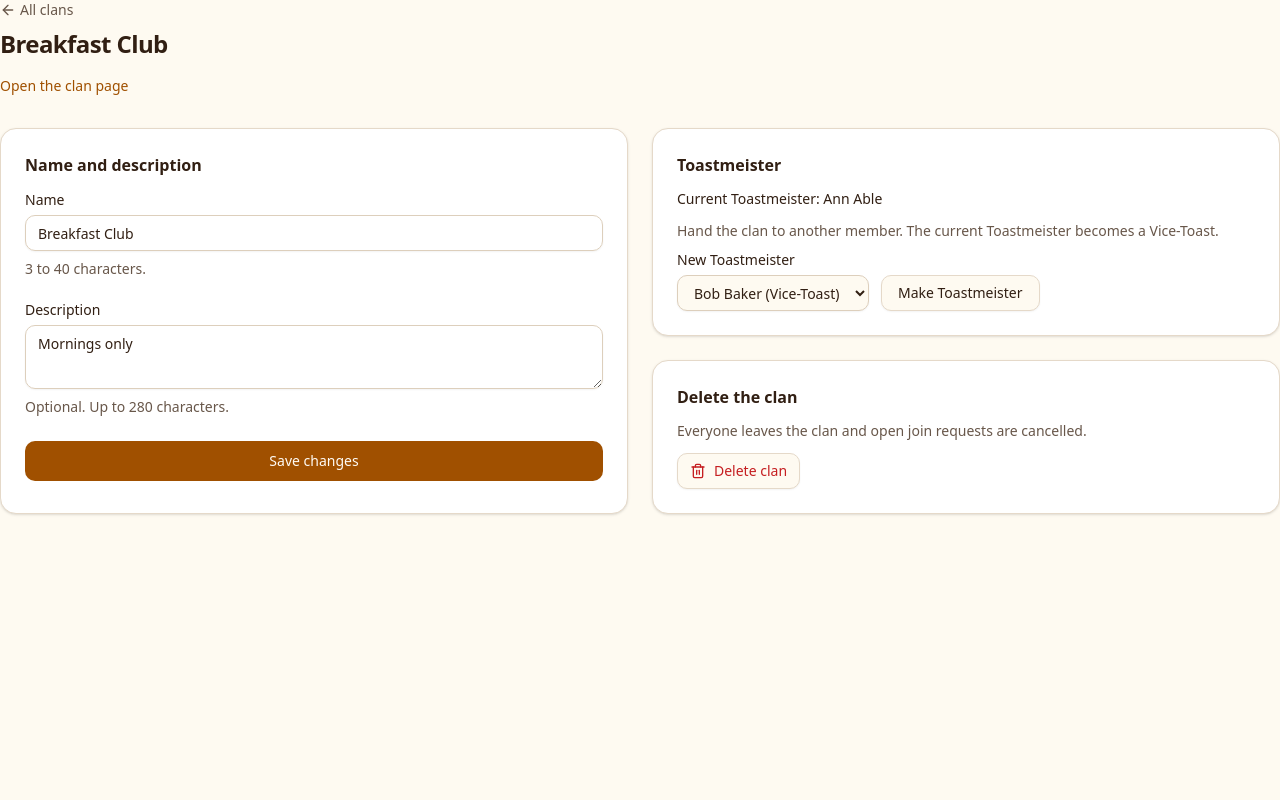
AdminClanPage › hands the clan to the member picked
Expected: the text "Current Toastmeister:" shows "Ann Able", [823,189,882,208]
Select "Cyril (Toastie)" in the dropdown labelled "New Toastmeister" at (773, 293), box [677,275,869,311]
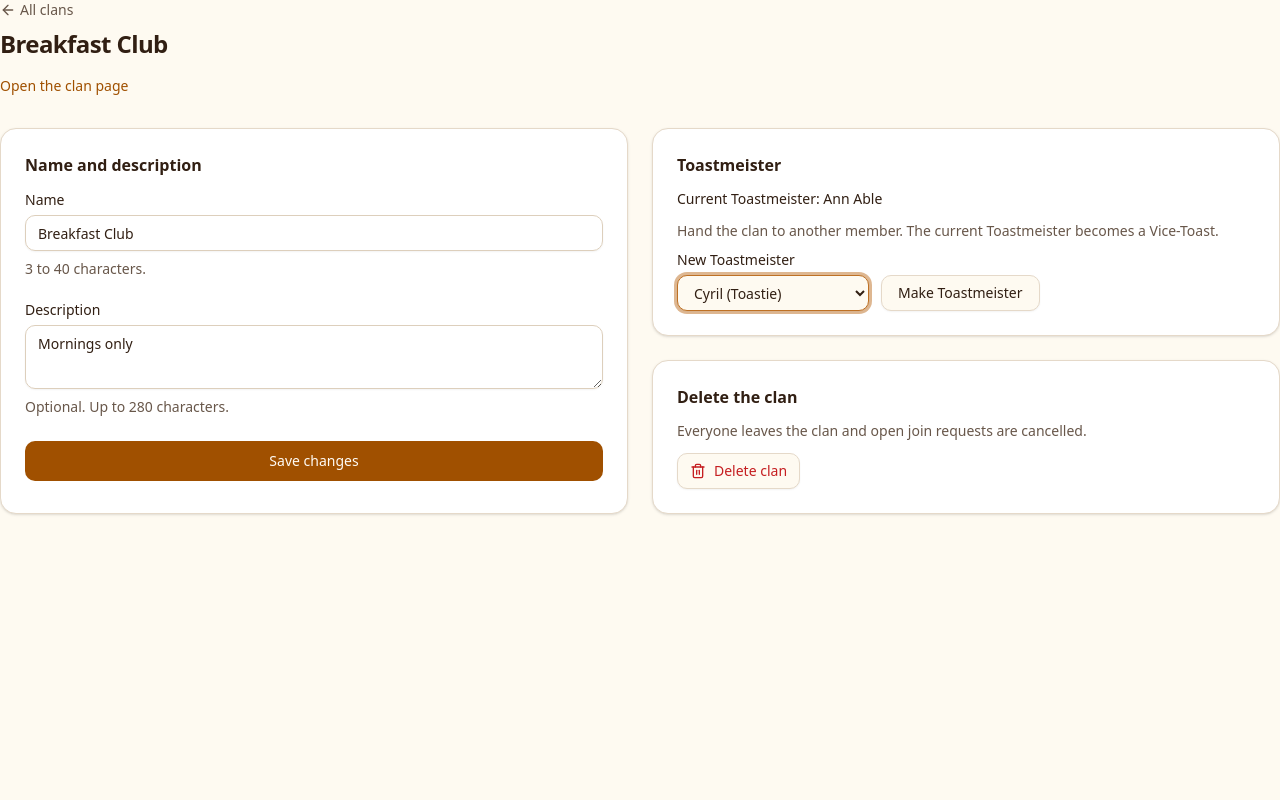
Click the button "Make Toastmeister" at (960, 293), box [881,275,1040,311]
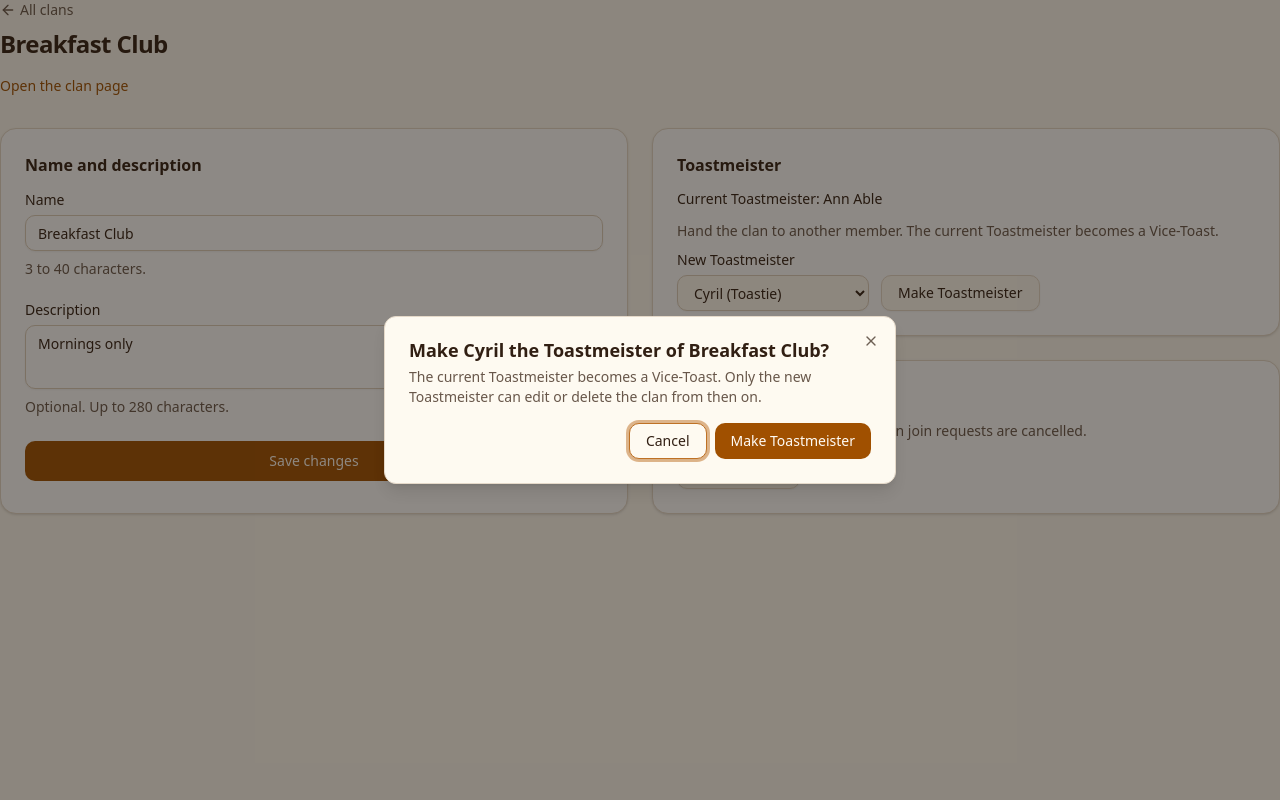
Click the button "Make Toastmeister" at (793, 441), box [714,423,871,459]
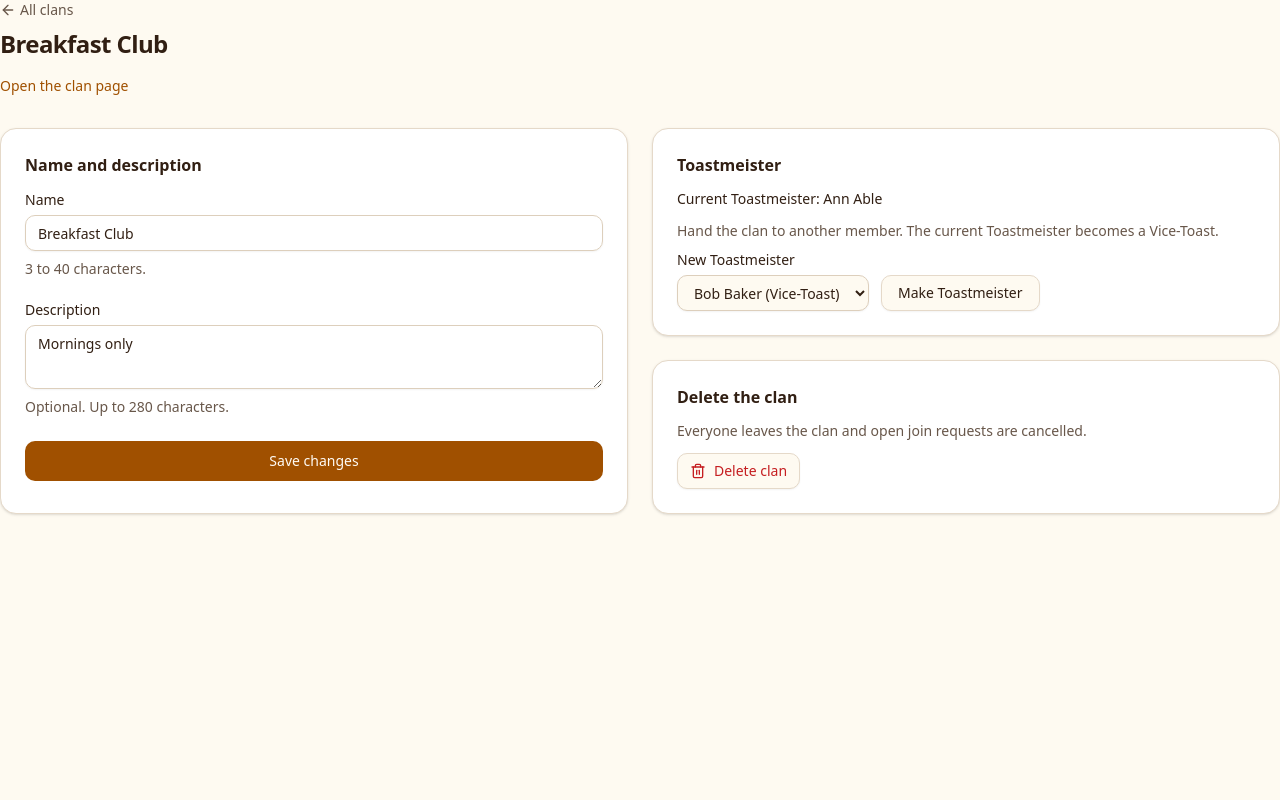
Expected: the dialog is gone
